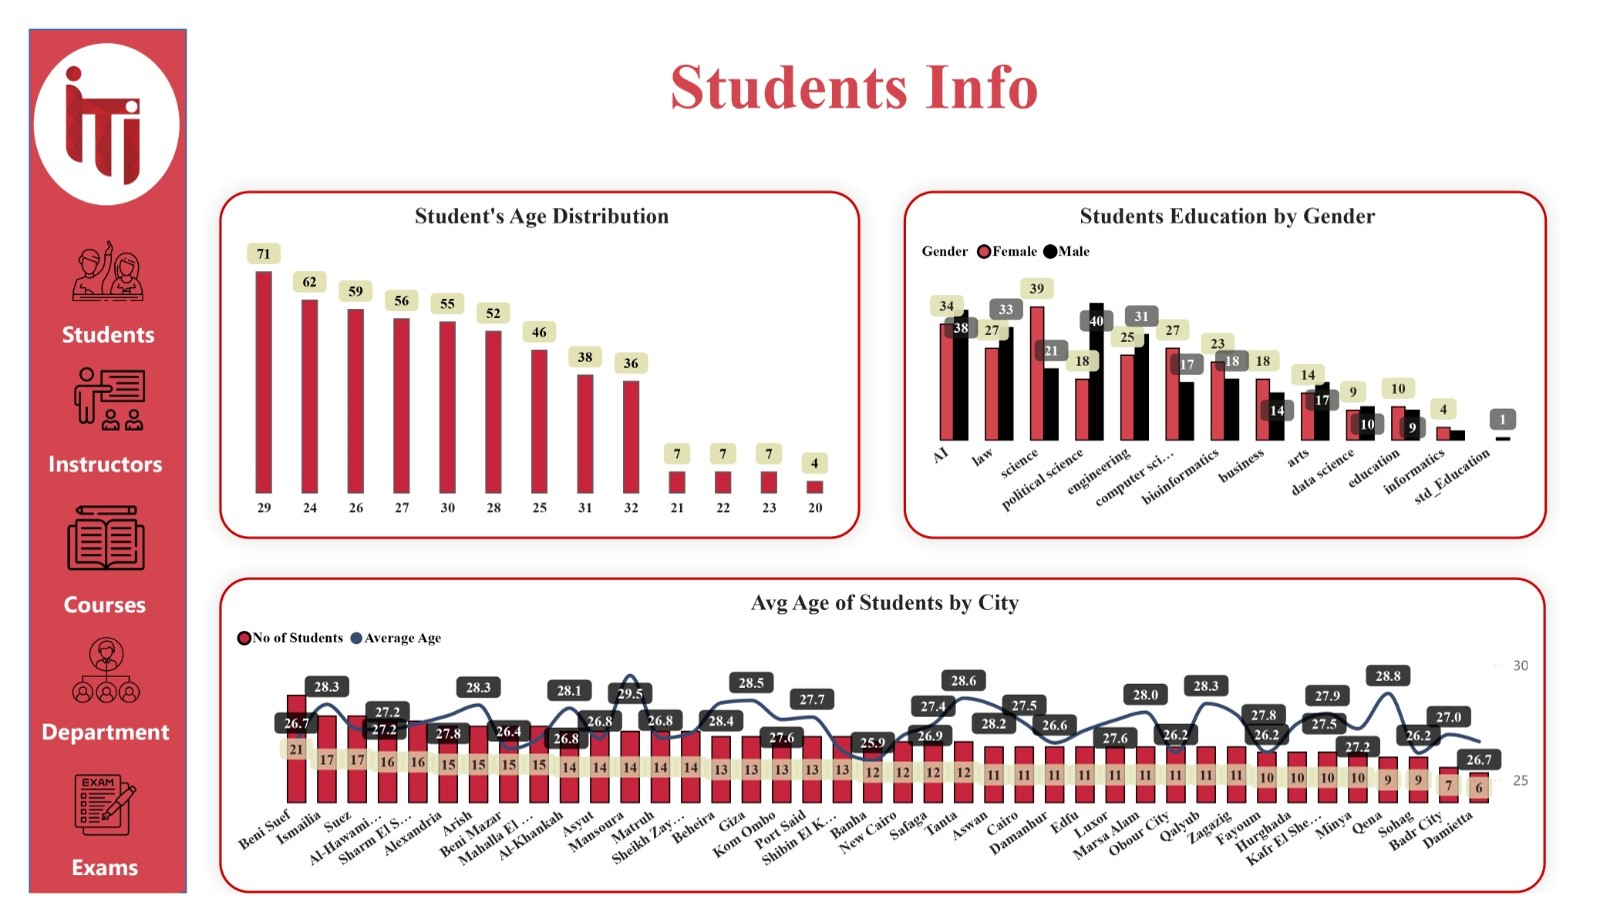

What the dashboard file says about the page in this screenshot:
{"tool":"powerbi","page":{"name":"Students General Info02","canvas":[1280,720],"ordinal":4},"visuals":[{"type":"textbox","box":[486.7,11.5,396,97.9],"z":0},{"type":"image","box":[7.2,272.1,119.5,72],"z":0,"group":"g1"},{"type":"shape","box":[0,0,131,720],"z":1000},{"type":"image","box":[5.7,167,121,69.1],"z":1000,"group":"g1"},{"type":"shape","box":[4.3,11.5,121,135.4],"z":2000},{"type":"textbox","box":[11.5,236.1,109.4,36],"z":2000,"group":"g1"},{"type":"image","box":[0,11.5,125.3,123.8],"z":3000},{"type":"textbox","box":[1.4,344.1,125.3,43.2],"z":3000,"group":"g1"},{"type":"clusteredColumnChart","title":"Student''s Age Distribution","fields":{"Category":["Fact_student.std_Age"],"Y":["Measures (2).No of Students"]},"box":[158.4,135.4,531.4,289.4],"z":4000},{"type":"image","box":[1.4,387.3,125.3,73.4],"z":4000,"group":"g1"},{"type":"clusteredColumnChart","title":"Students Education by Gender ","fields":{"Category":["Fact_student.std_Education"],"Series":["Fact_student.std_Gender"],"Y":["Measures (2).No of Students"]},"box":[725.8,135.4,534.2,289.4],"z":5000},{"type":"image","box":[1.4,613.4,125.3,66.2],"z":5000,"group":"g1"},{"type":"lineClusteredColumnComboChart","title":"Avg Age of Students by City","fields":{"Y":["Measures (2).No of Students"],"Y2":["Measures (2).AverageAge"],"Category":["Fact_student.std_Address"]},"box":[158.4,456.5,1101.6,263.5],"z":6000},{"type":"textbox","box":[1.4,460.8,123.8,43.2],"z":6000,"group":"g1"},{"type":"group","id":"g1","title":"Group 1","box":[1.4,167,125.3,553],"z":7000},{"type":"textbox","box":[1.4,679.6,123.8,40.3],"z":7000,"group":"g1"},{"type":"image","box":[1.4,501.1,125.3,66.2],"z":8000,"group":"g1"},{"type":"textbox","box":[1.4,567.3,125.3,46.1],"z":9000,"group":"g1"}]}

Visuals, with their boxes in screenshot pixels (x1, y1, x2, y2), scaled from the page's 1280x720 canvas onto the 1600x922 screenshot:
textbox: bbox=(608, 15, 1103, 140)
image: bbox=(9, 348, 158, 441)
shape: bbox=(0, 0, 164, 921)
image: bbox=(7, 214, 158, 302)
shape: bbox=(5, 15, 157, 188)
textbox: bbox=(14, 302, 151, 348)
image: bbox=(0, 15, 157, 173)
textbox: bbox=(2, 441, 158, 496)
"Student''s Age Distribution" clusteredColumnChart: bbox=(198, 173, 862, 544)
image: bbox=(2, 496, 158, 590)
"Students Education by Gender " clusteredColumnChart: bbox=(907, 173, 1575, 544)
image: bbox=(2, 785, 158, 870)
"Avg Age of Students by City" lineClusteredColumnComboChart: bbox=(198, 585, 1575, 921)
textbox: bbox=(2, 590, 156, 645)
"Group 1" group: bbox=(2, 214, 158, 921)
textbox: bbox=(2, 870, 156, 921)
image: bbox=(2, 642, 158, 726)
textbox: bbox=(2, 726, 158, 785)
